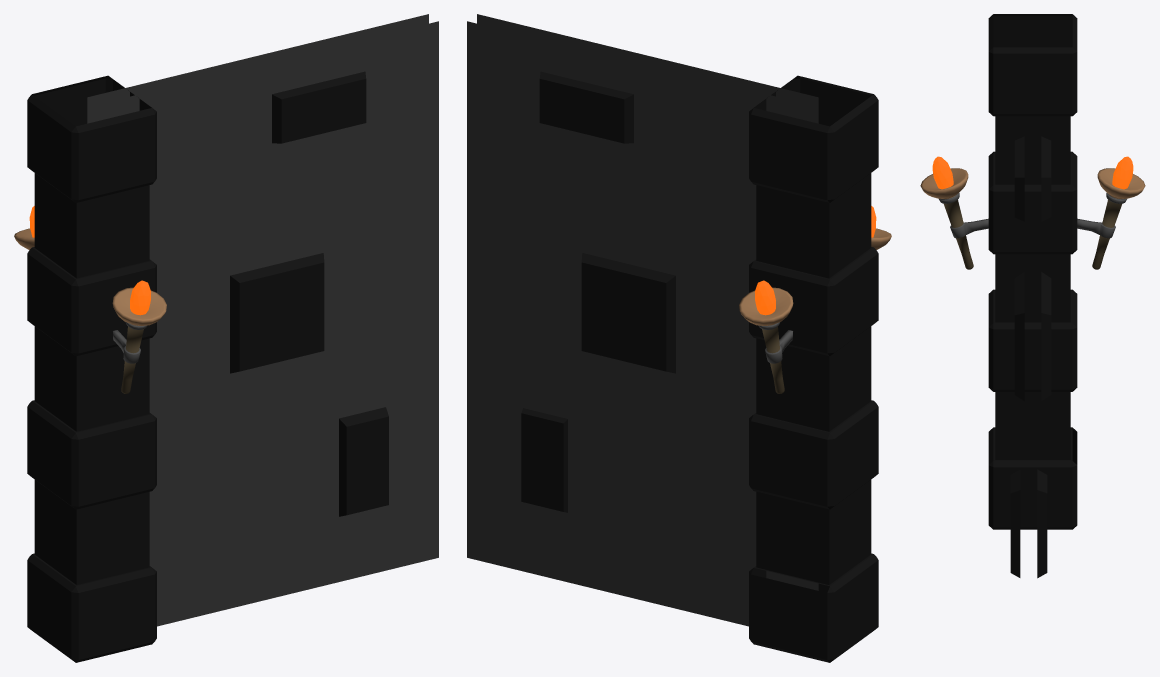
The model's file is wallPlain3.gltf.
3 renders of one model, left to right at view 1: azimuth 30°, elevation 25°; view 2: azimuth 150°, elevation 25°; view 3: azimuth 270°, elevation 25°, orthographic. The views are drawn at different scales.
Visible parts, largest first — view 1: wall3; view 2: wall3; view 3: wall3.
Part boxes in pixels (x1=…): wall3: x1=14, y1=14, x2=438, y2=662; wall3: x1=467, y1=14, x2=891, y2=662; wall3: x1=920, y1=14, x2=1145, y2=578.
Bounding box in the file's own units: 2.25 × 3 × 1.27.
